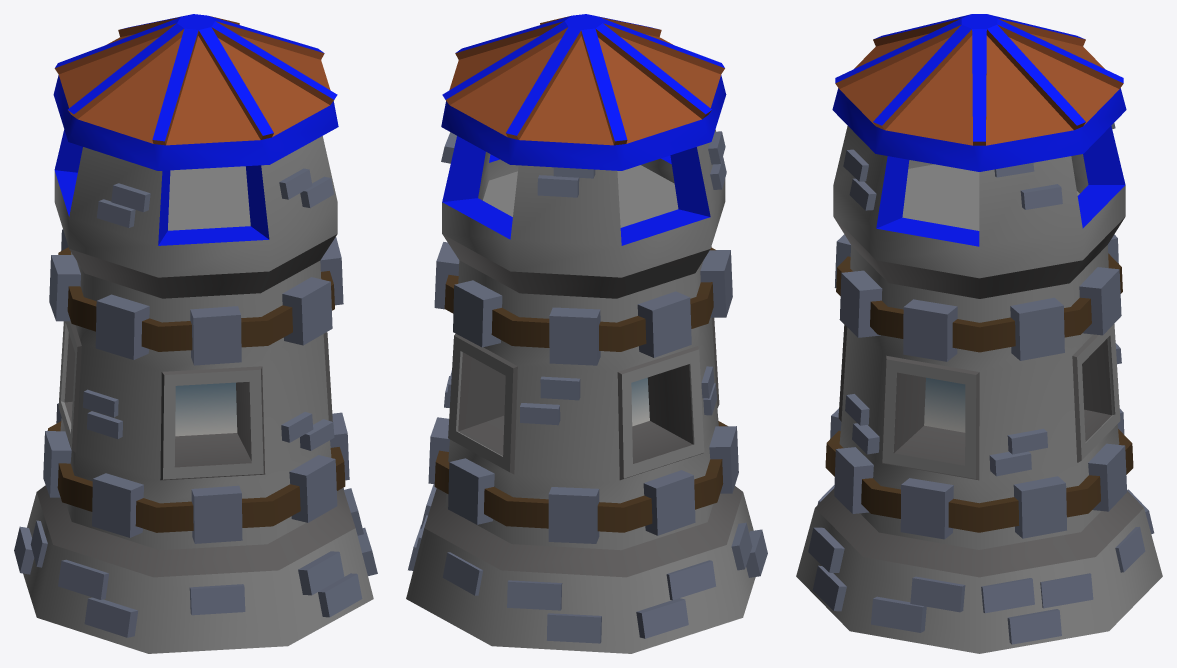
Rendered from Tower10.fbx.
3 renders of one model, left to right at view 1: azimuth 30°, elevation 25°; view 2: azimuth 150°, elevation 25°; view 3: azimuth 270°, elevation 25°, orthographic.
Parts seen in each view (by area): view 1: Tower10; view 2: Tower10; view 3: Tower10.
Boxes of the visible parts, x1,y1,x2,y2 form: Tower10: (14,14,377,653); Tower10: (406,14,767,653); Tower10: (796,14,1162,653).
Size of the model in its own units: 1003 by 1674 by 1003.
